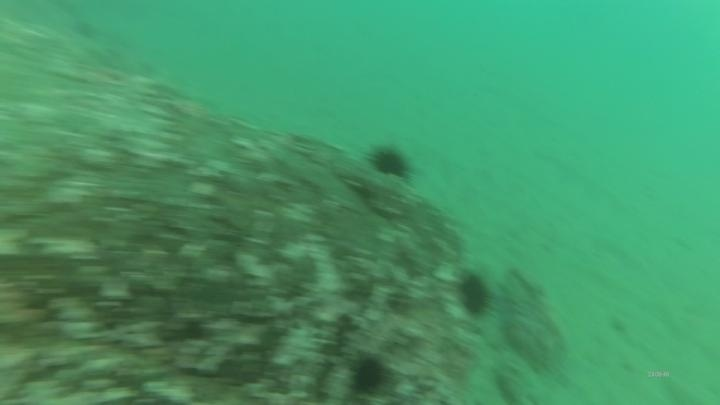echinus: (345, 352, 392, 399), (453, 268, 495, 320), (366, 141, 414, 182)
